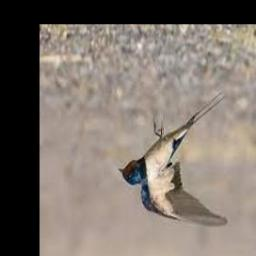Swallow: (119, 93, 228, 228)
